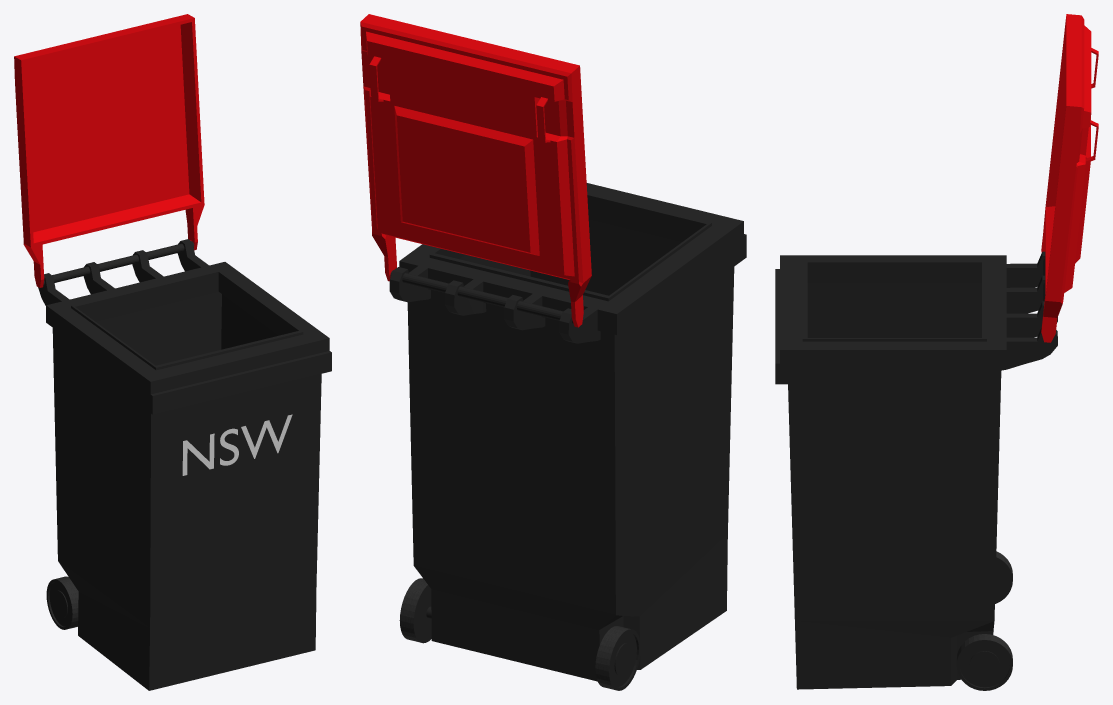
File: Bin_Open.fbx
3 renders of one model, left to right at view 1: azimuth 30°, elevation 25°; view 2: azimuth 150°, elevation 25°; view 3: azimuth 270°, elevation 25°, orthographic. The views are drawn at different scales.
Visible parts, largest first — view 1: Bin; view 2: Bin; view 3: Bin.
Part boxes in pixels (left/top/right/bottom): Bin: left=14, top=14, right=331, bottom=690; Bin: left=360, top=14, right=746, bottom=690; Bin: left=775, top=14, right=1098, bottom=690.
Bounding box in the file's own units: 59.54 × 172 × 85.98.
